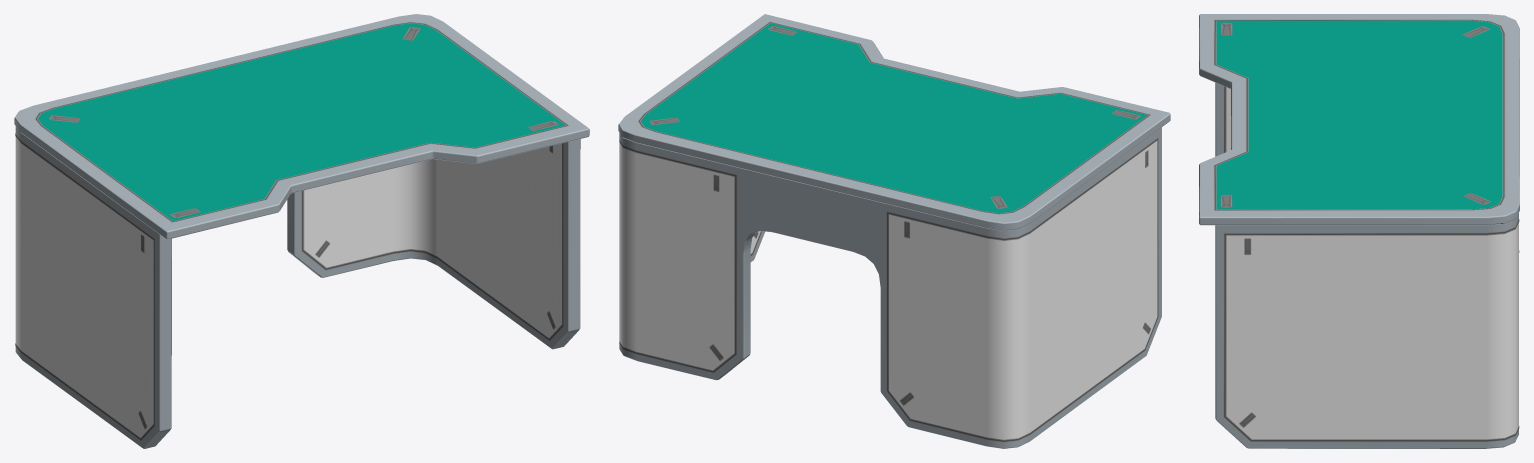
The model's file is wardroom-table.glb.
The picture shows the model from 3 angles, left to right: view 1: azimuth 30°, elevation 25°; view 2: azimuth 150°, elevation 25°; view 3: azimuth 270°, elevation 25°; orthographic projection. The views are drawn at different scales.
Parts seen in each view (by area): view 1: Table001_Color2_0, Table001_Color3_0, Table001_Color1_0, Table001_d; view 2: Table001_Color2_0, Table001_Color3_0, Table001_Color1_0, Table001_d; view 3: Table001_Color2_0, Table001_Color3_0, Table001_Color1_0, Table001_d.
Part boxes in pixels (left/top/right/bottom): Table001_Color2_0: left=15, top=137, right=561, bottom=437; Table001_Color3_0: left=38, top=23, right=565, bottom=220; Table001_Color1_0: left=14, top=14, right=589, bottom=448; Table001_d: left=15, top=22, right=569, bottom=440; Table001_Color2_0: left=619, top=141, right=1157, bottom=439; Table001_Color3_0: left=641, top=23, right=1147, bottom=213; Table001_Color1_0: left=618, top=14, right=1170, bottom=448; Table001_d: left=619, top=21, right=1158, bottom=442; Table001_Color2_0: left=1226, top=87, right=1518, bottom=439; Table001_Color3_0: left=1216, top=20, right=1502, bottom=209; Table001_Color1_0: left=1199, top=14, right=1519, bottom=448; Table001_d: left=1213, top=19, right=1519, bottom=442.
Size of the model in its own units: 1.88 by 1 by 1.25.
4 materials, 1 textured.
